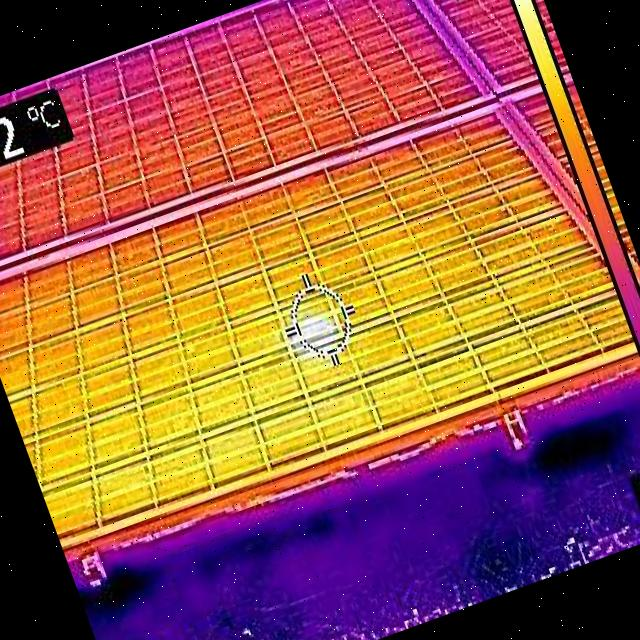Hotspot: (284, 306, 342, 356)
